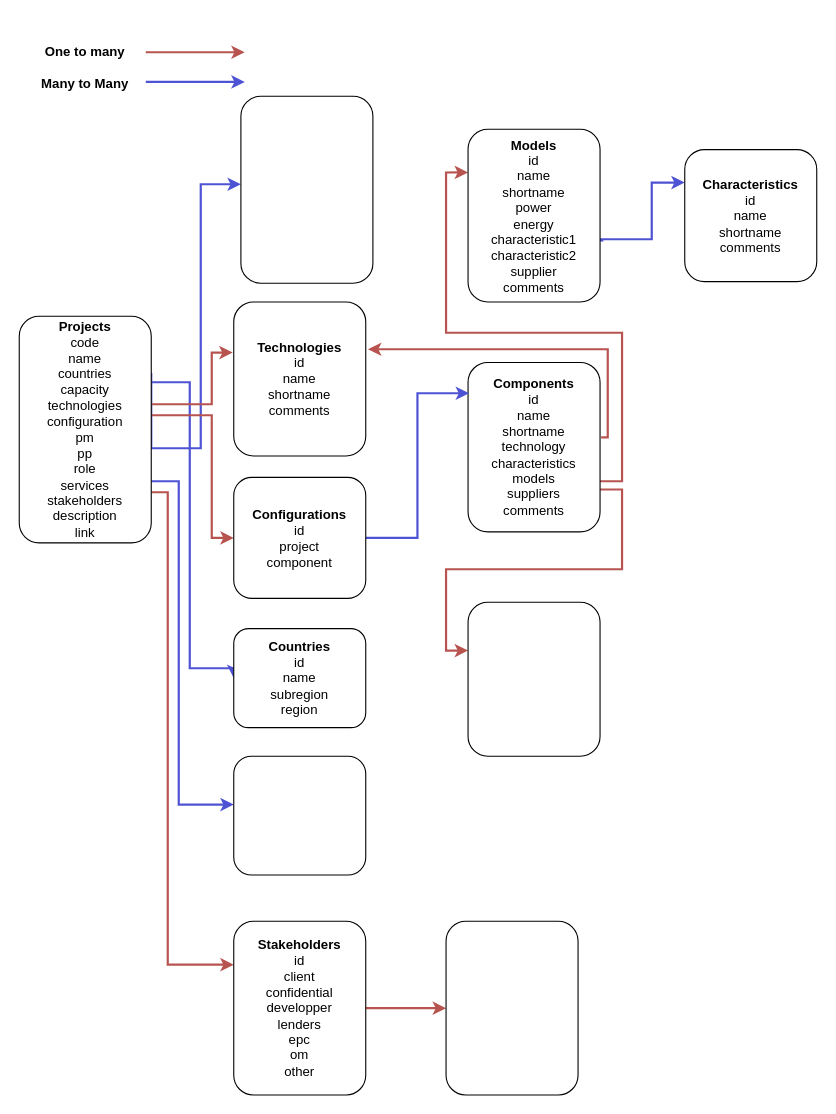
This 836x1114 diagram has some shape labels left out. Here are the shapes that lost their labels. From the top down, the centre of each, then its label:
(306,189): Users staffnum name password email auth pm pp wah
(533,678): Suppliers id name shortname models comments
(299,815): Services id name type deliverables
(511,1007): Parties id name shortname acronym parent type comments
